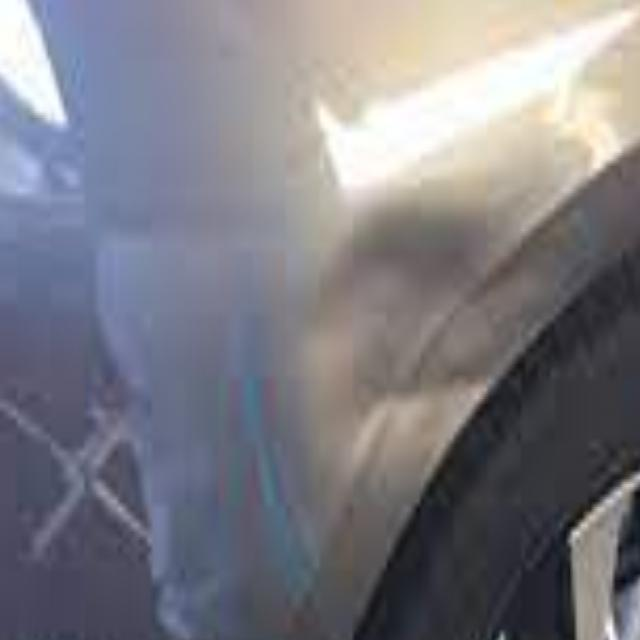dents: (296, 210, 524, 450)
